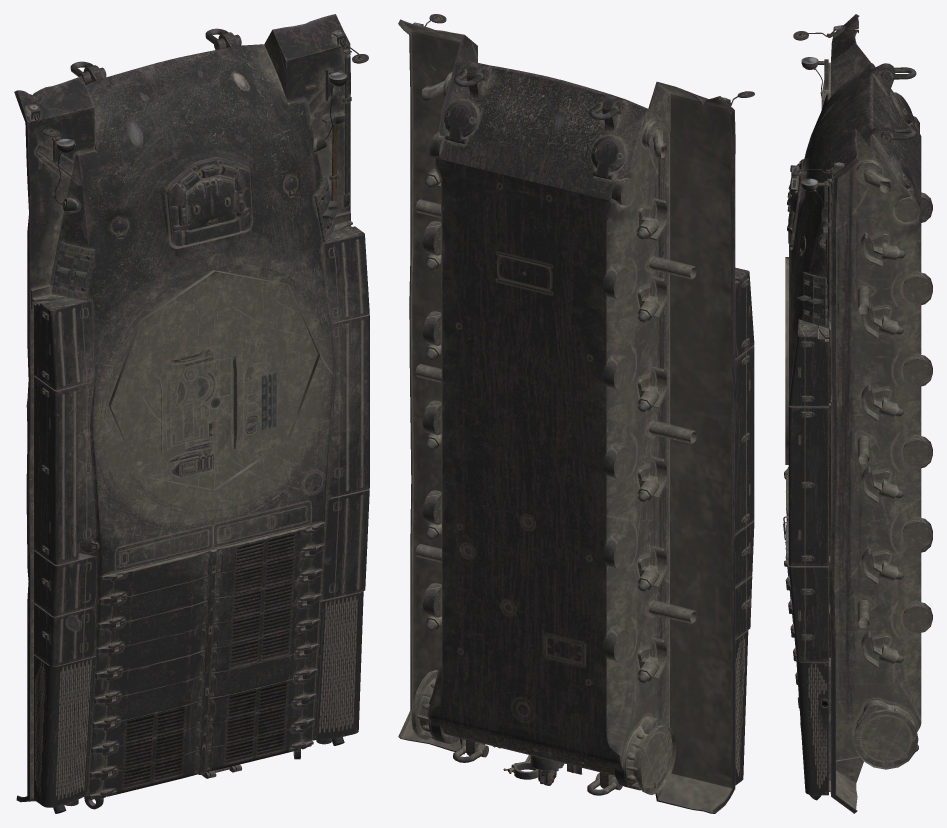
The model's file is Hull.glb.
The picture shows the model from 3 angles, left to right: view 1: azimuth 30°, elevation 25°; view 2: azimuth 150°, elevation 25°; view 3: azimuth 270°, elevation 25°; orthographic projection. The views are drawn at different scales.
Parts seen in each view (by area): view 1: set_0_group_0; view 2: set_0_group_0; view 3: set_0_group_0.
Part boxes in pixels (left/top/right/bottom): set_0_group_0: left=14, top=14, right=369, bottom=813; set_0_group_0: left=398, top=14, right=754, bottom=813; set_0_group_0: left=783, top=14, right=932, bottom=813.
Bounding box in the file's own units: 3.08 × 6.55 × 1.35.
Materials: 1 (1 with a texture image).
